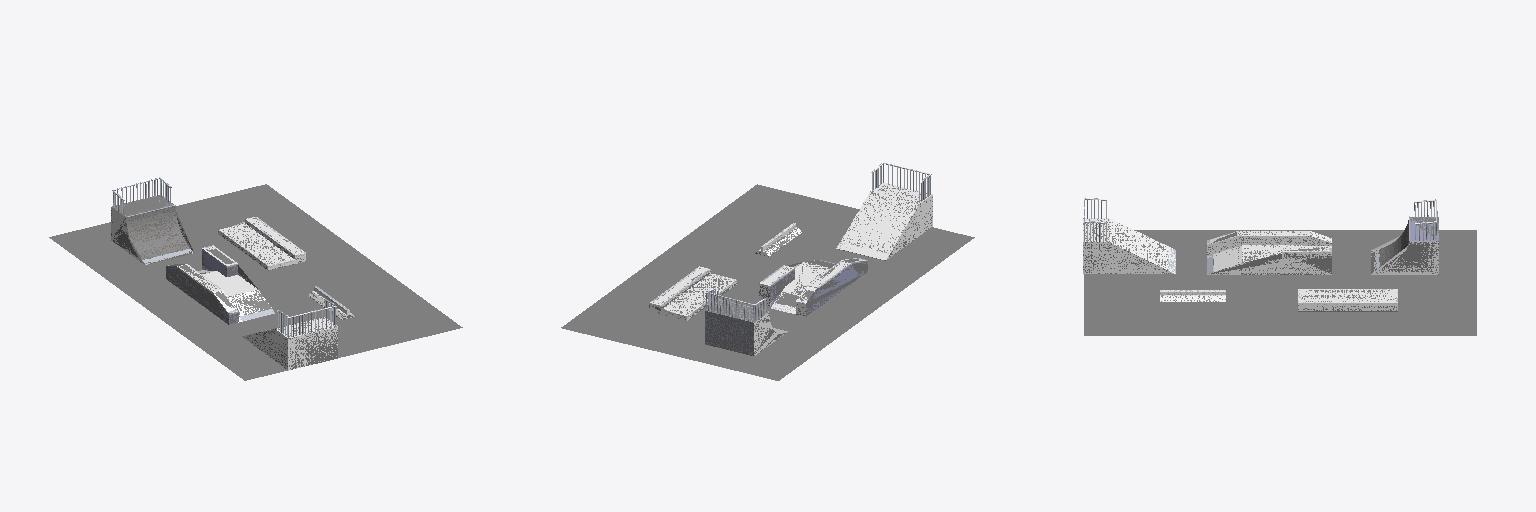
3 renders of one model, left to right at view 1: azimuth 30°, elevation 25°; view 2: azimuth 150°, elevation 25°; view 3: azimuth 270°, elevation 25°, orthographic.
Parts seen in each view (by area): view 1: Mesh2 Model, Mesh1 Model; view 2: Mesh2 Model, Mesh1 Model; view 3: Mesh2 Model, Mesh1 Model.
Part boxes in pixels (x1,y1,x2,y2): Mesh2 Model: (49,184,462,380); Mesh1 Model: (111,195,193,264); Mesh2 Model: (561,166,974,380); Mesh1 Model: (705,299,787,355); Mesh2 Model: (1083,201,1476,335); Mesh1 Model: (1371,216,1438,274).
Size of the model in its own units: 9.74 by 2.28 by 15.23.
Materials: 11 (1 with a texture image).